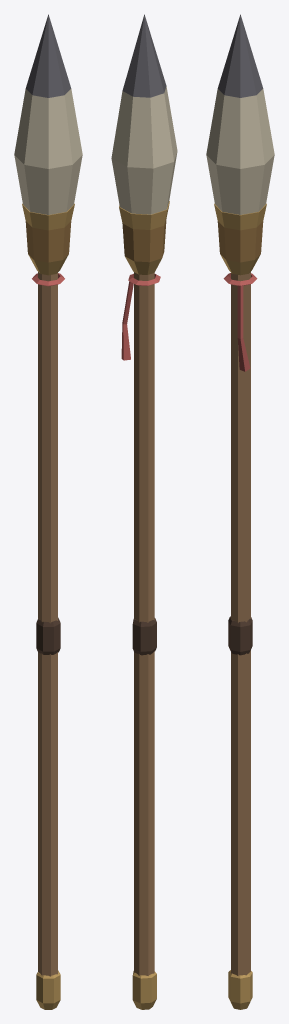
File: brush_staff.glb
3 views of the same model, side by side, from view 1: azimuth 90°, elevation 25°; view 2: azimuth 150°, elevation 25°; view 3: azimuth 270°, elevation 25° (orthographic).
Visible parts, largest first — view 1: brush_staff; view 2: brush_staff; view 3: brush_staff.
Part boxes in pixels (x1=…): brush_staff: x1=14, y1=14, x2=82, y2=1009; brush_staff: x1=111, y1=14, x2=177, y2=1009; brush_staff: x1=206, y1=14, x2=274, y2=1009.
Bounding box in the file's own units: 0.15 × 2.4 × 0.15.
